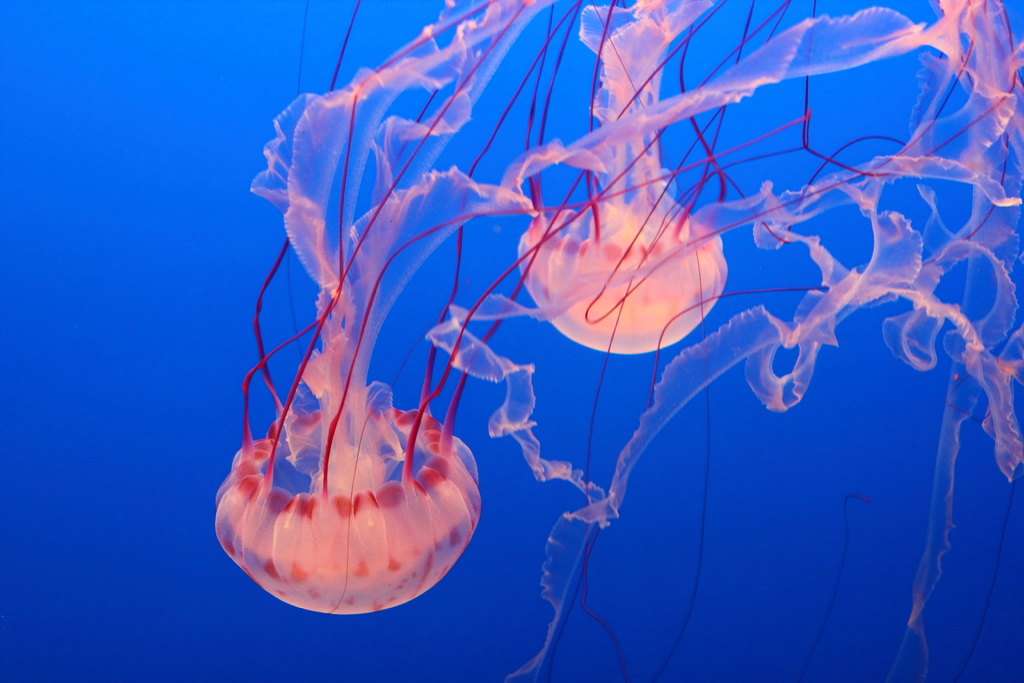Jellyfish: (208, 0, 1023, 614), (520, 0, 1022, 360)
